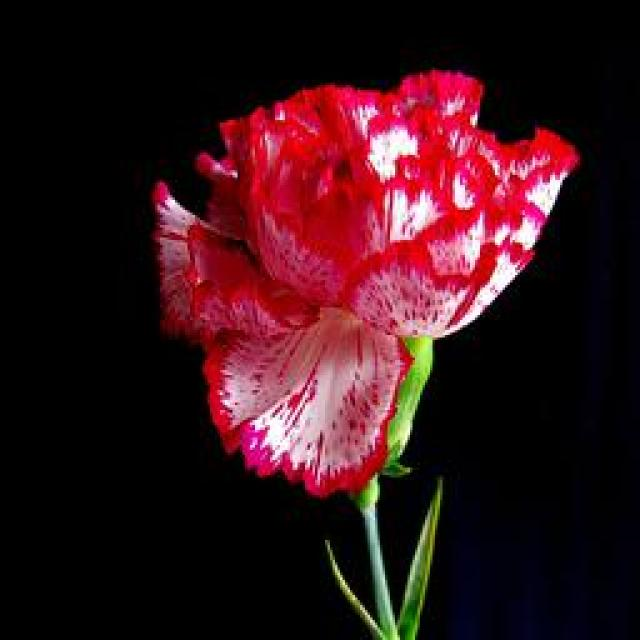carnation: (142, 48, 580, 494)
